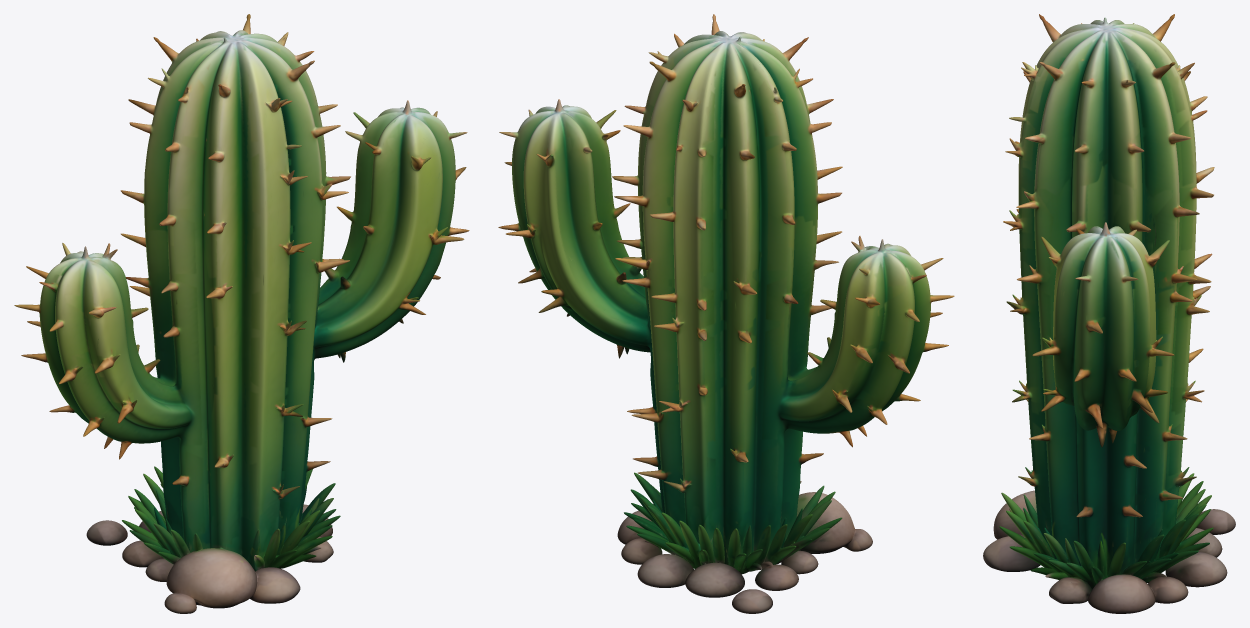
The model's file is kaktus.glb.
The picture shows the model from 3 angles, left to right: view 1: azimuth 30°, elevation 25°; view 2: azimuth 150°, elevation 25°; view 3: azimuth 270°, elevation 25°; orthographic projection. The views are drawn at different scales.
Visible parts, largest first — view 1: node_0; view 2: node_0; view 3: node_0.
Part boxes in pixels (<box>): node_0: <box>14,14,469,613</box>; node_0: <box>498,14,954,613</box>; node_0: <box>983,14,1235,613</box>.
Bounding box in the file's own units: 0.917 × 1.05 × 0.4437.
1 material, 1 textured.
